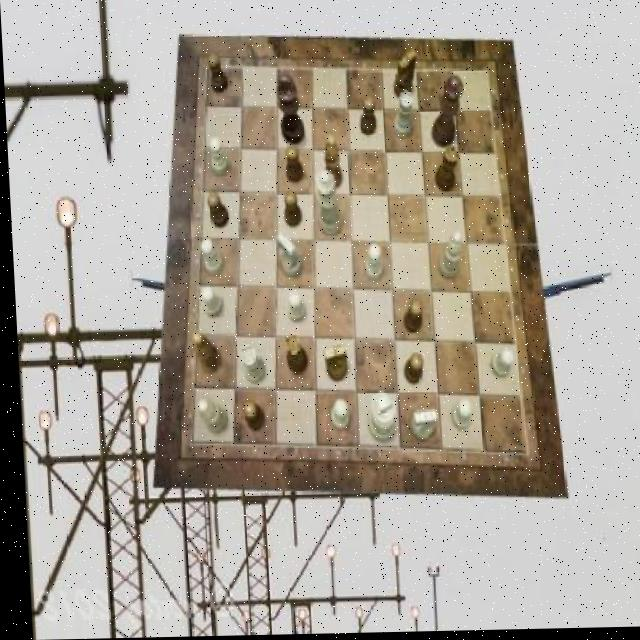bishop: (188, 332, 217, 375), (320, 136, 341, 190)
black-bishop: (274, 75, 303, 148)
black-king: (391, 53, 417, 102), (319, 345, 343, 383)
black-knight: (206, 55, 227, 95), (205, 193, 226, 230), (399, 300, 420, 335), (357, 98, 375, 138), (237, 400, 259, 432), (280, 193, 299, 230), (283, 146, 302, 183), (398, 354, 419, 387)
black-pawn: (427, 78, 463, 151)
black-queen: (431, 147, 457, 193), (281, 335, 305, 375)
black-rook: (435, 232, 461, 280), (194, 400, 223, 435)
white-bishop: (361, 392, 392, 445)
white-king: (273, 232, 298, 278), (406, 411, 434, 443)
white-knight: (197, 238, 221, 276), (197, 287, 221, 320), (486, 351, 511, 381), (207, 138, 226, 177), (445, 401, 467, 433), (362, 246, 381, 282), (325, 400, 345, 432), (284, 292, 303, 323)
white-pawn: (312, 171, 339, 238)
white-queen: (390, 93, 413, 141), (236, 346, 260, 385)
